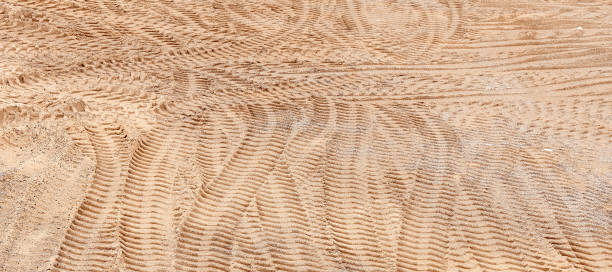vehicle_track: (0, 0, 611, 271), (54, 123, 127, 270)
